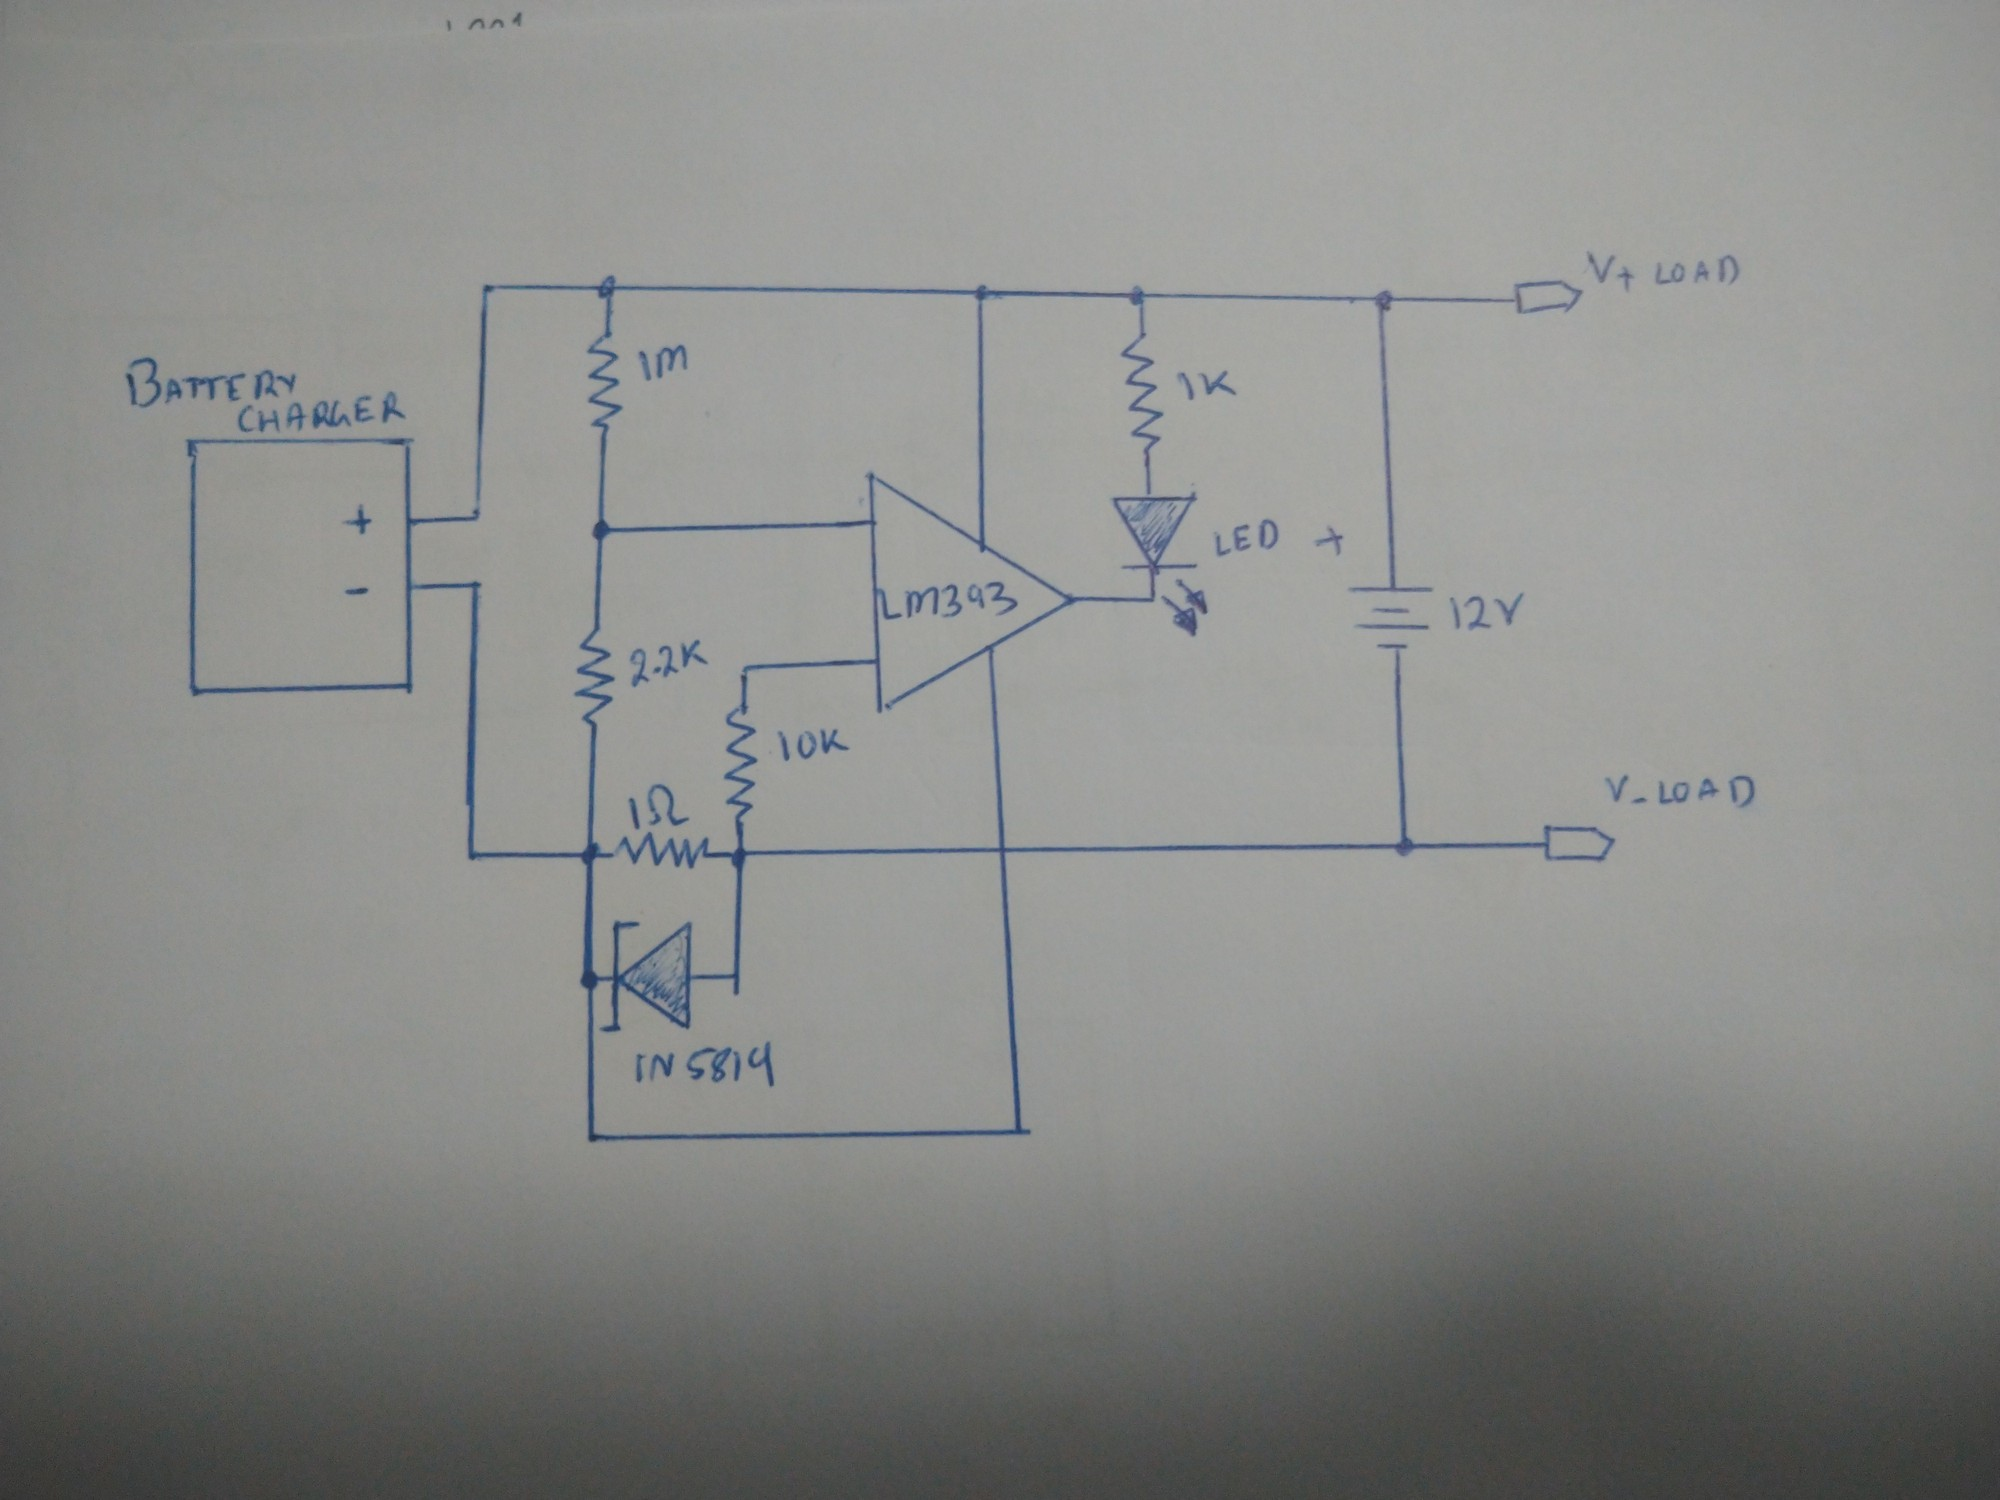crossover: (989, 838, 1016, 859)
diode: (598, 919, 698, 1038)
diode.light_emitting: (1110, 490, 1211, 641)
junction: (967, 277, 1003, 312), (1365, 285, 1402, 318), (583, 515, 617, 547), (1389, 834, 1425, 863), (594, 271, 627, 303), (1121, 279, 1153, 310), (576, 841, 605, 873), (728, 841, 756, 873), (1006, 1120, 1036, 1142), (578, 967, 602, 993), (465, 504, 487, 529), (474, 277, 498, 299), (578, 1127, 603, 1147), (461, 845, 483, 867), (1142, 591, 1164, 613), (465, 575, 488, 596), (724, 963, 746, 983), (735, 659, 756, 678)
operational_amplifier: (863, 468, 1076, 715)
resistor: (1118, 329, 1175, 454), (721, 700, 764, 822), (572, 622, 617, 731), (583, 328, 627, 433), (614, 830, 712, 871)
terminal: (1542, 821, 1619, 868), (1510, 277, 1587, 318)
text: (120, 353, 299, 410), (1581, 244, 1743, 296), (631, 1040, 780, 1090), (238, 392, 413, 435), (1598, 769, 1761, 815), (874, 578, 1020, 622), (627, 637, 710, 689), (1446, 591, 1529, 635), (627, 782, 694, 834), (1211, 515, 1283, 562), (773, 726, 850, 764), (633, 342, 696, 384), (1173, 366, 1246, 402)
voltage.dc: (183, 433, 424, 701), (1343, 581, 1443, 655)
